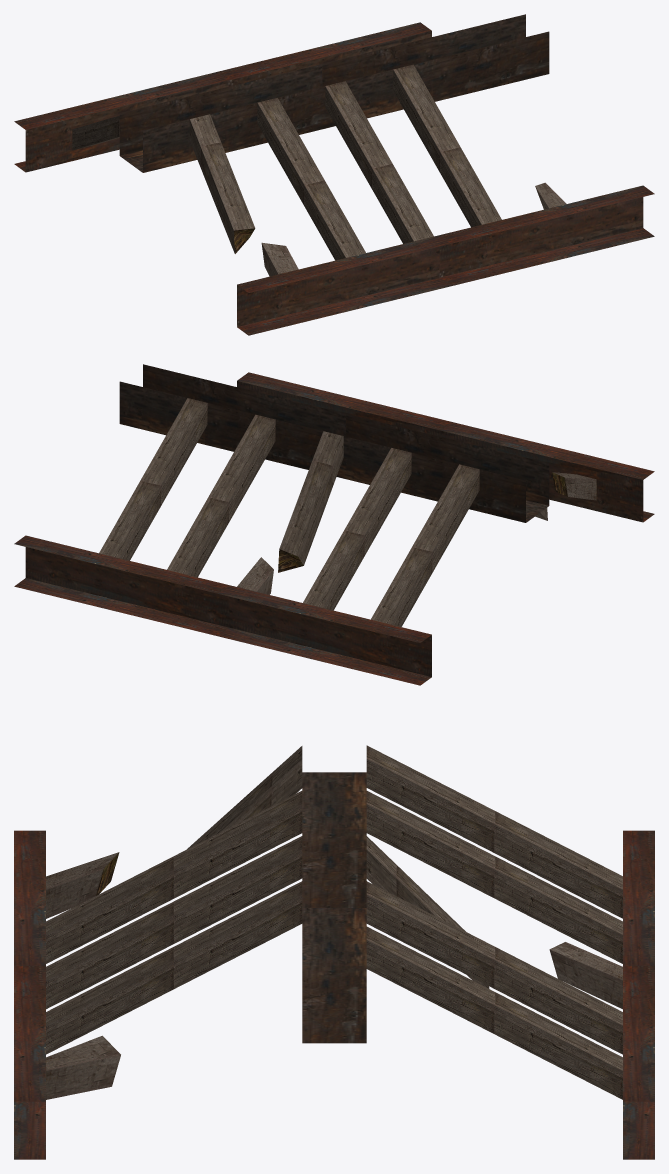
File: Beam.FBX
3 renders of one model, top to bottom at view 1: azimuth 30°, elevation 25°; view 2: azimuth 150°, elevation 25°; view 3: azimuth 270°, elevation 25°, orthographic. The views are drawn at different scales.
Visible parts, largest first — view 1: beam_164; view 2: beam_164; view 3: beam_164.
Part boxes in pixels (box(x1,y1,x2,y2)): beam_164: box(14, 14, 654, 335); beam_164: box(14, 364, 654, 685); beam_164: box(14, 745, 654, 1159).
Size of the model in its own units: 400 by 400 by 120.
